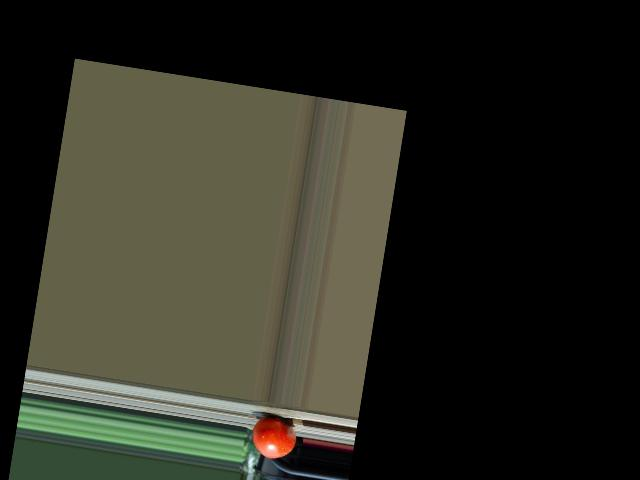tomato: (248, 415, 298, 461)
